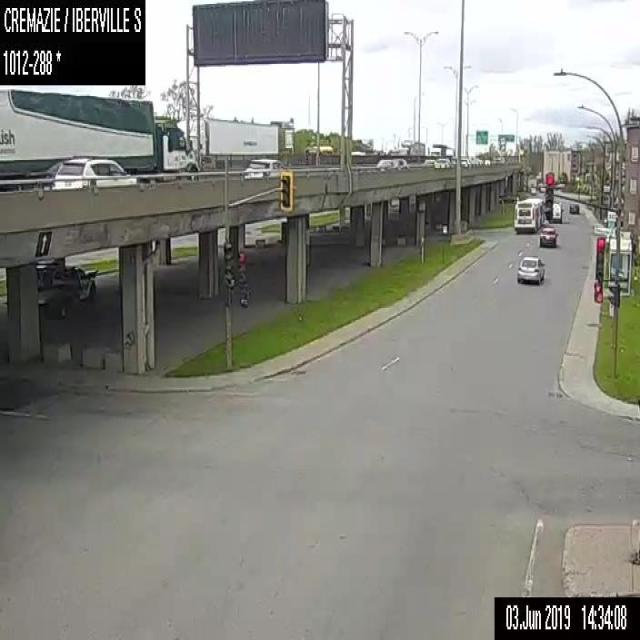bus: (513, 196, 544, 231), (304, 143, 333, 163)
vehicle: (0, 87, 199, 180), (176, 115, 294, 169), (36, 261, 96, 316), (54, 157, 137, 190), (242, 157, 289, 178), (44, 157, 72, 189), (516, 253, 544, 284), (400, 139, 425, 160), (538, 225, 558, 246), (547, 200, 563, 223), (430, 143, 454, 158), (376, 156, 399, 170), (393, 155, 410, 169), (351, 149, 366, 163), (433, 157, 451, 168), (423, 157, 436, 168), (460, 156, 472, 167), (568, 202, 578, 214), (386, 148, 399, 157), (470, 158, 480, 167), (451, 156, 456, 168), (483, 158, 491, 165)
